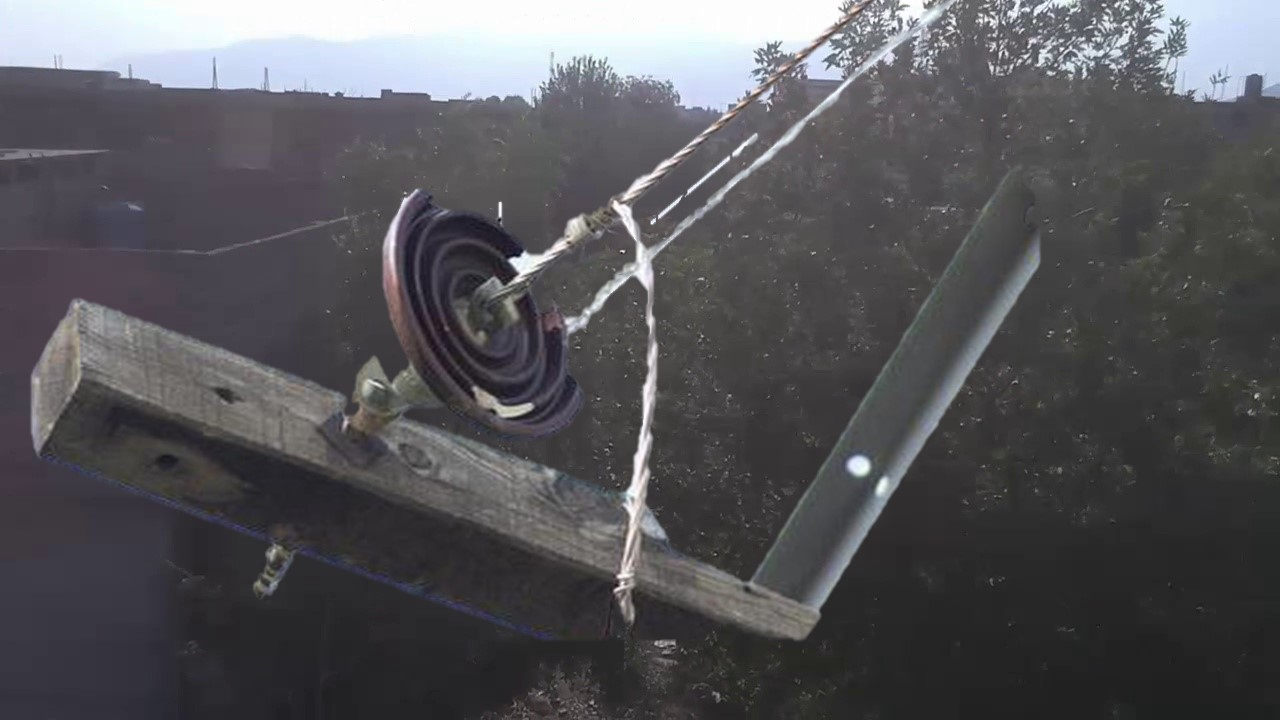defect_disc: (368, 172, 593, 444)
